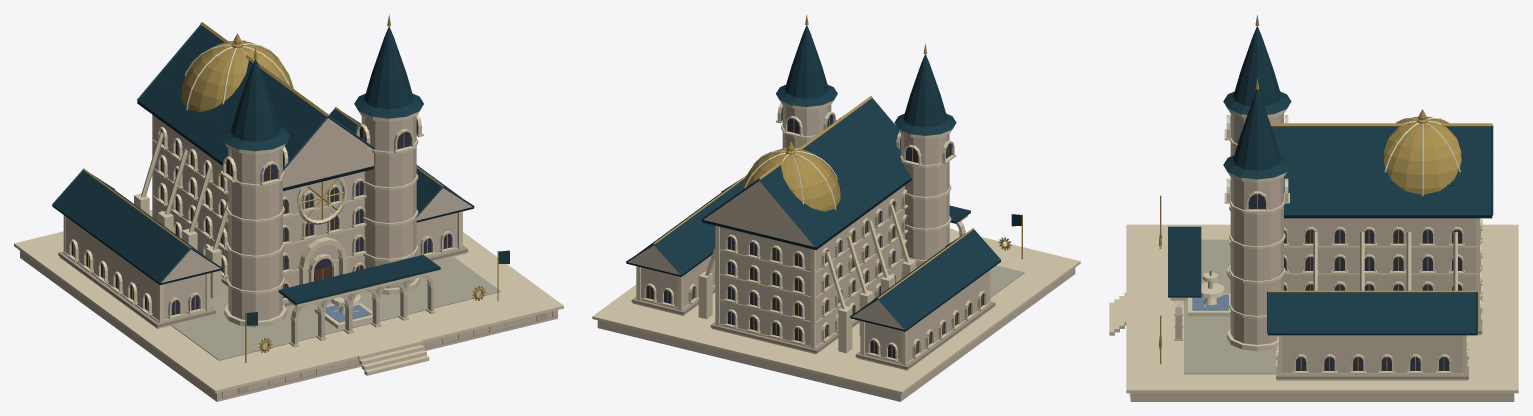
The model's file is basilica.glb.
The picture shows the model from 3 angles, left to right: view 1: azimuth 30°, elevation 25°; view 2: azimuth 150°, elevation 25°; view 3: azimuth 270°, elevation 25°; orthographic projection. The views are drawn at different scales.
Visible parts, largest first — view 1: cathedral, cathedral-roof, precinct-base, inhabited-detail; view 2: cathedral, cathedral-roof, precinct-base; view 3: cathedral-roof, cathedral, precinct-base, inhabited-detail.
Part boxes in pixels (box(x1,y1,x2,y2)): cathedral: box(58, 108, 468, 347); cathedral-roof: box(52, 14, 474, 304); precinct-base: box(14, 210, 563, 401); inhabited-detail: box(217, 250, 558, 398); cathedral: box(631, 98, 995, 370); cathedral-roof: box(626, 14, 1000, 331); precinct-base: box(592, 229, 1080, 401); cathedral-roof: box(1168, 15, 1493, 335); cathedral: box(1170, 106, 1482, 380); precinct-base: box(1126, 224, 1518, 401); inhabited-detail: box(1109, 195, 1161, 398).
Bounding box in the file's own units: 23.5 × 18.19 × 24.52.
